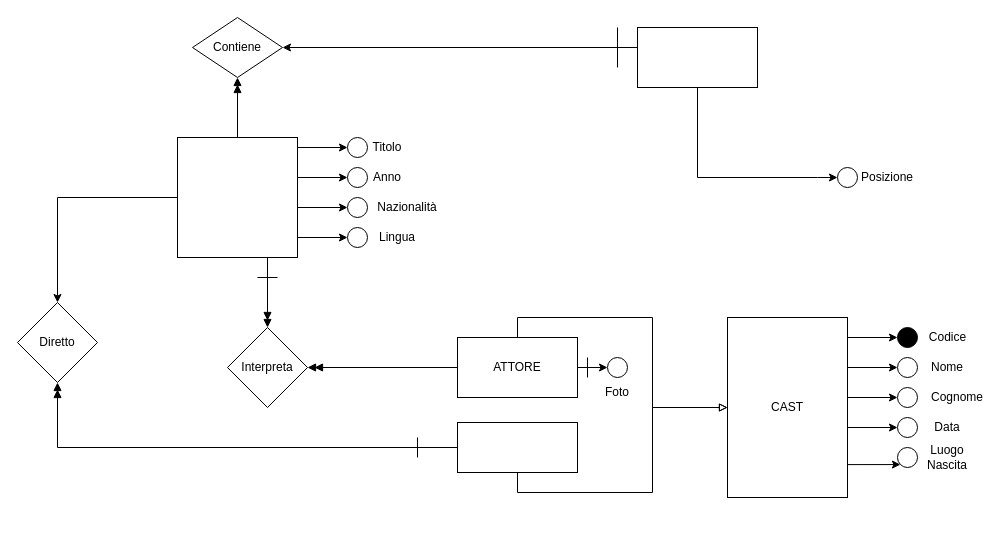
Some shapes in this 1005 by 553 pixel diagram are drawn without their labels. The centre of each missing label's shape, as x and y in pixels:
"FILM" belongs at (x=237, y=197).
"REGISTA" belongs at (x=517, y=447).
"SUPPORTO" belongs at (x=697, y=57).
